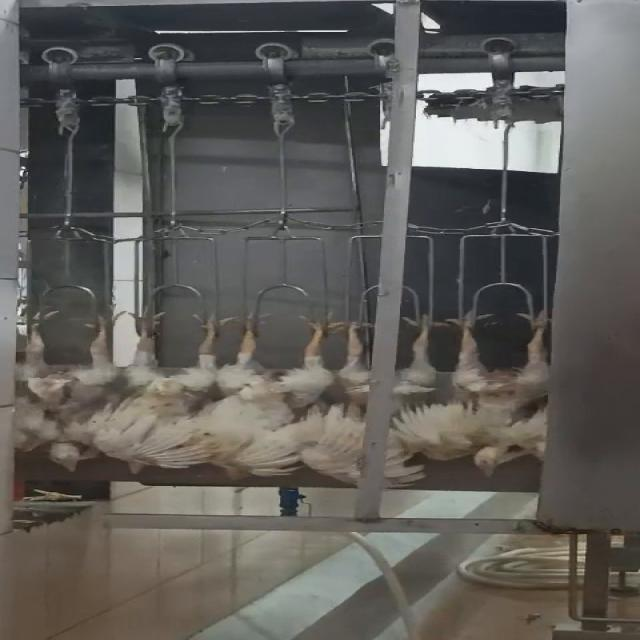chicken: (110, 307, 240, 478), (439, 298, 560, 481), (228, 307, 354, 481), (0, 310, 128, 477), (324, 310, 440, 492)
